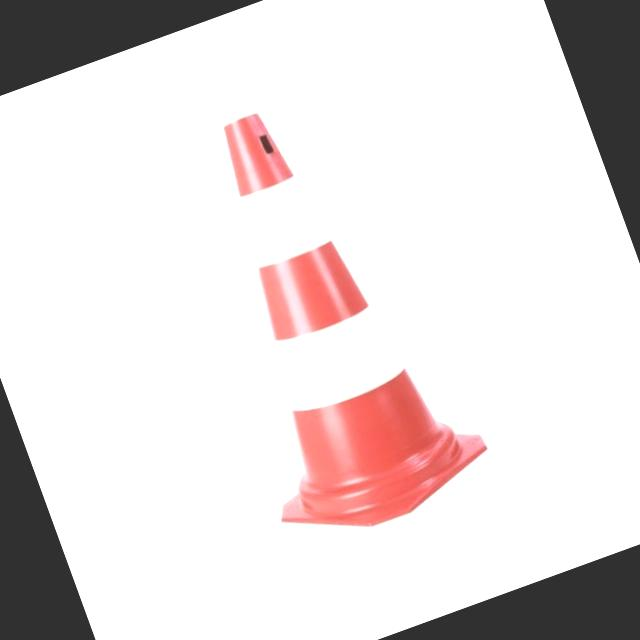cone: (152, 68, 472, 534)
